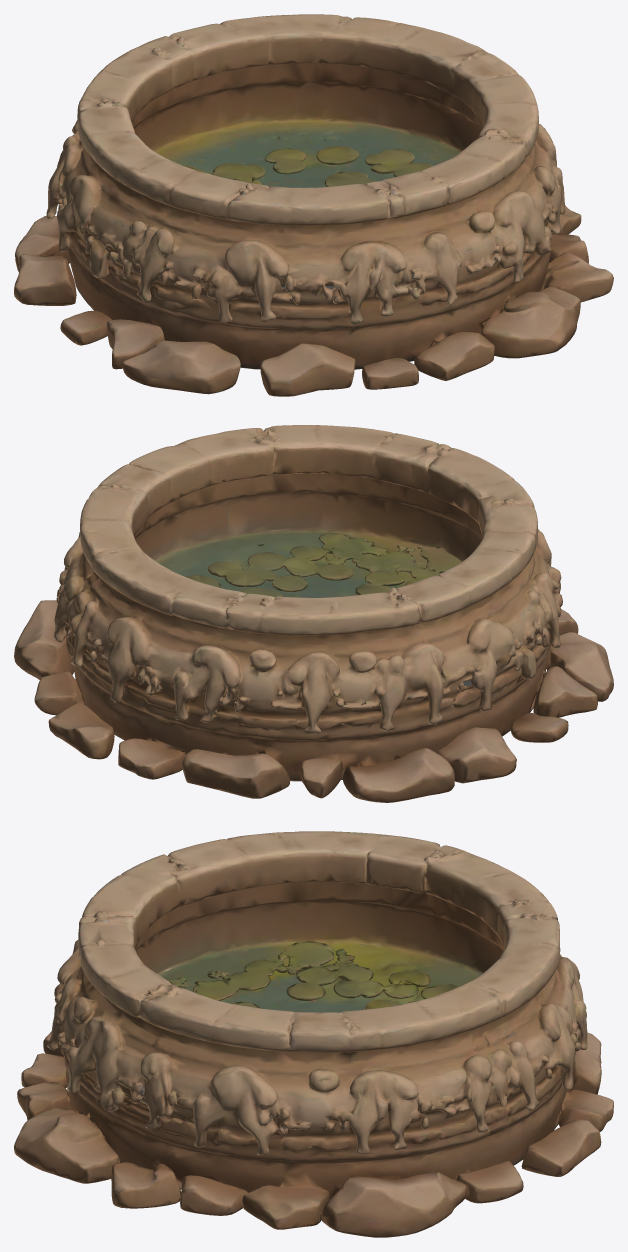
File: stone-water-basin-small-decorative-optimized.glb
The picture shows the model from 3 angles, top to bottom: view 1: azimuth 30°, elevation 25°; view 2: azimuth 150°, elevation 25°; view 3: azimuth 270°, elevation 25°; orthographic projection. The views are drawn at different scales.
Parts seen in each view (by area): view 1: world; view 2: world; view 3: world.
Boxes of the visible parts, box(x1,y1,x2,y2) form: world: box(14, 14, 613, 396); world: box(14, 425, 613, 802); world: box(14, 831, 613, 1237).
Bounding box in the file's own units: 0.7 × 0.2299 × 0.6809.
1 material, 1 textured.
